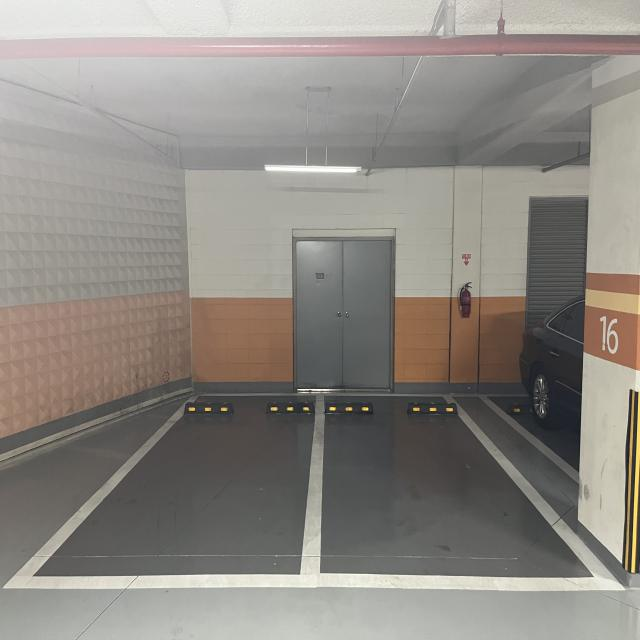empty: (299, 391, 628, 591), (5, 389, 322, 590)
